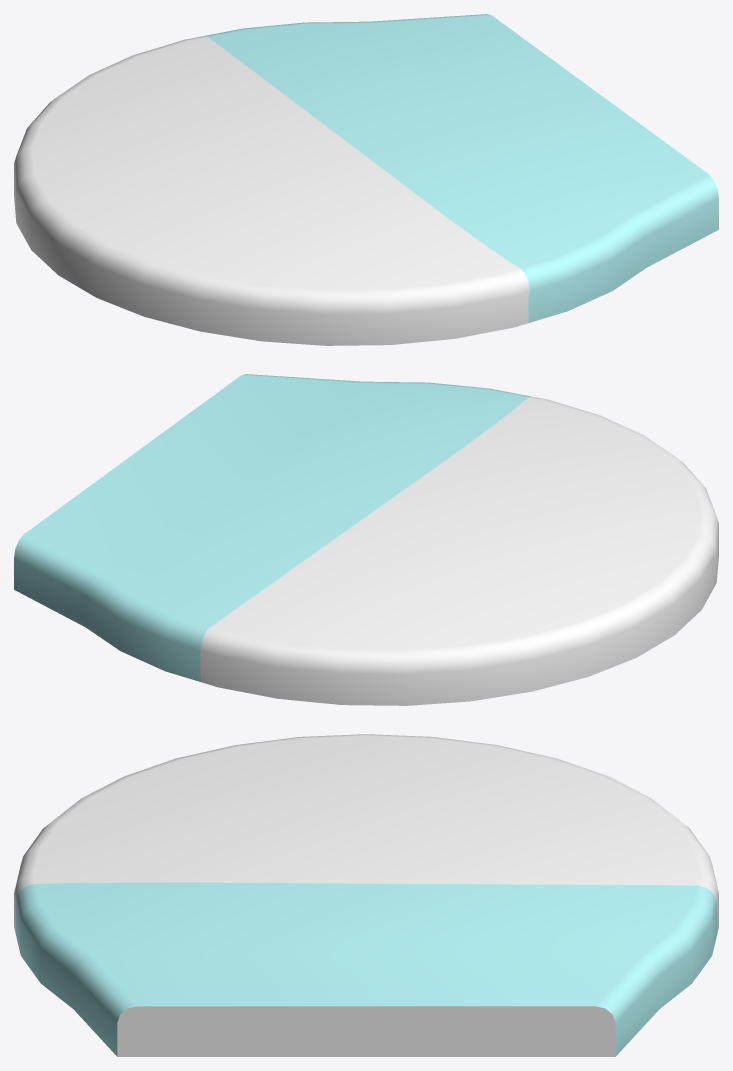
File: StartCircle_blue.fbx
3 renders of one model, top to bottom at view 1: azimuth 30°, elevation 25°; view 2: azimuth 150°, elevation 25°; view 3: azimuth 270°, elevation 25°, orthographic. The views are drawn at different scales.
Parts seen in each view (by area): view 1: StartCircle_blue; view 2: StartCircle_blue; view 3: StartCircle_blue.
Part boxes in pixels (x1=…): StartCircle_blue: x1=14, y1=14, x2=718, y2=345; StartCircle_blue: x1=14, y1=374, x2=718, y2=705; StartCircle_blue: x1=14, y1=734, x2=718, y2=1056.
Size of the model in its own units: 397 by 33.61 by 424.
1 material, 1 textured.
